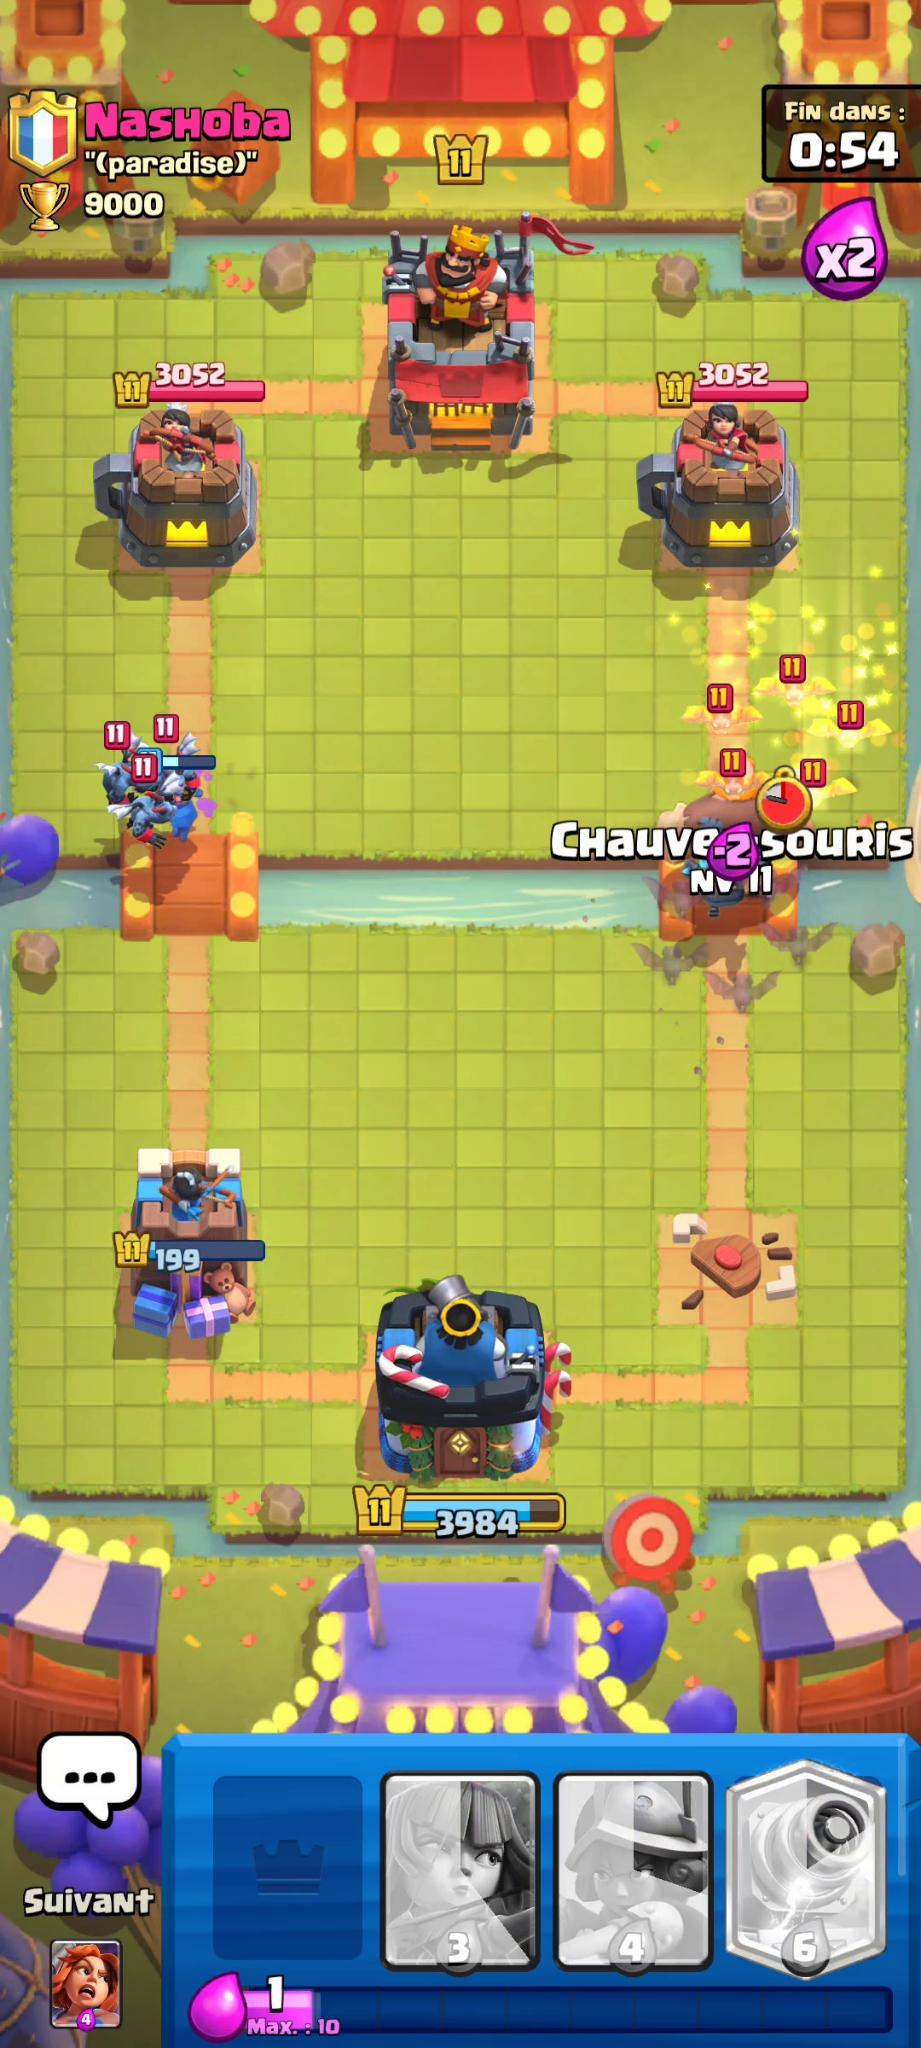bat: (643, 929, 700, 999), (694, 690, 751, 744), (712, 759, 772, 805), (828, 703, 877, 752), (734, 965, 779, 1019), (776, 917, 815, 970), (790, 759, 836, 801), (780, 662, 818, 712), (665, 861, 695, 906), (764, 867, 793, 910)
gargouille: (150, 741, 197, 802), (99, 746, 136, 805), (125, 784, 161, 839)
geant: (670, 775, 810, 891)
mini_PEKKA: (696, 850, 755, 921)
valkyrie: (154, 756, 209, 839)
